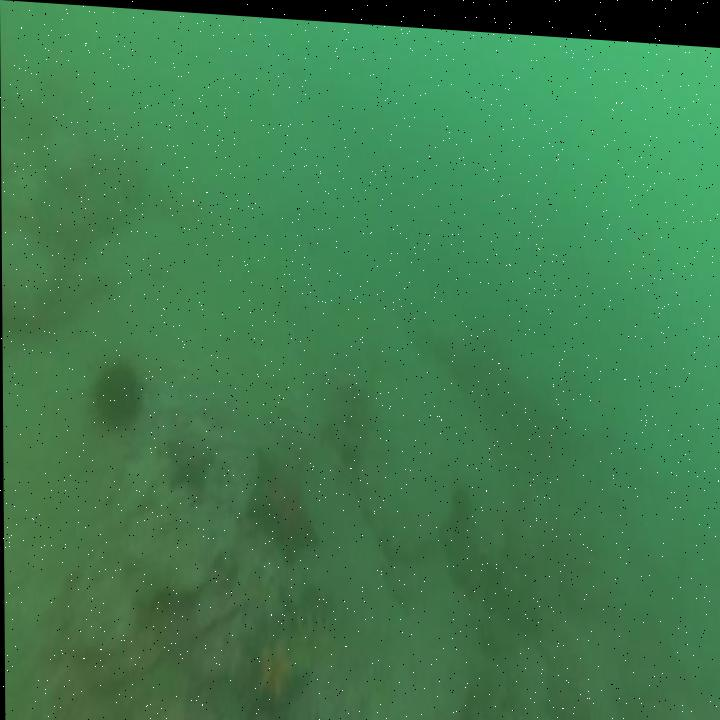echinus: (86, 349, 146, 433), (449, 475, 476, 535)
holothurian: (238, 615, 310, 720), (279, 599, 347, 669)
starfish: (246, 445, 321, 571), (438, 521, 490, 607), (160, 426, 216, 496)
